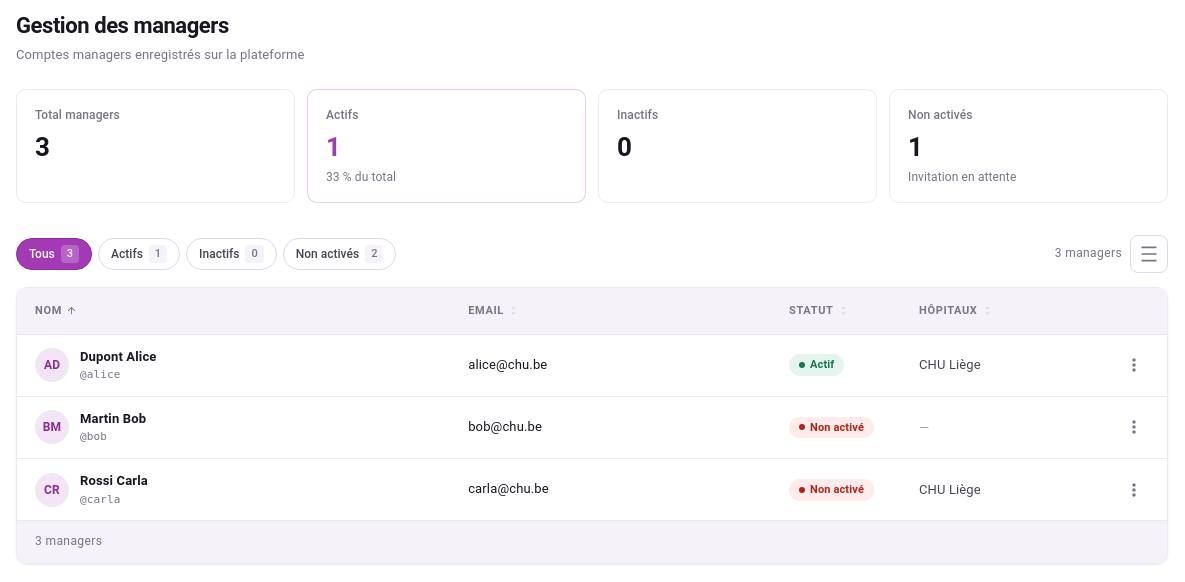
AdminManagersPage › opens actions menu on MoreVert click
Expected: the text "Dupont Alice" is shown, top-left (80, 348), bottom-right (156, 366)
Click the button with test id "MoreVertIcon". click: (1134, 365)
box: top-left (1119, 350), bottom-right (1149, 380)
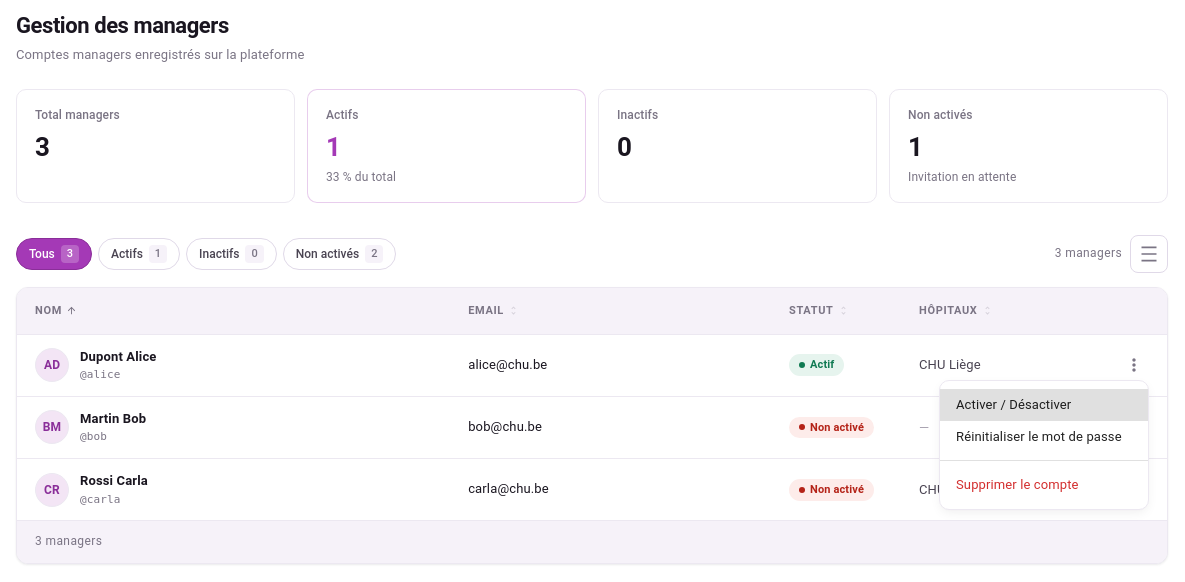
Expected: the menu item "Activer / Désactiver" is shown, top-left (940, 389), bottom-right (1148, 420)
